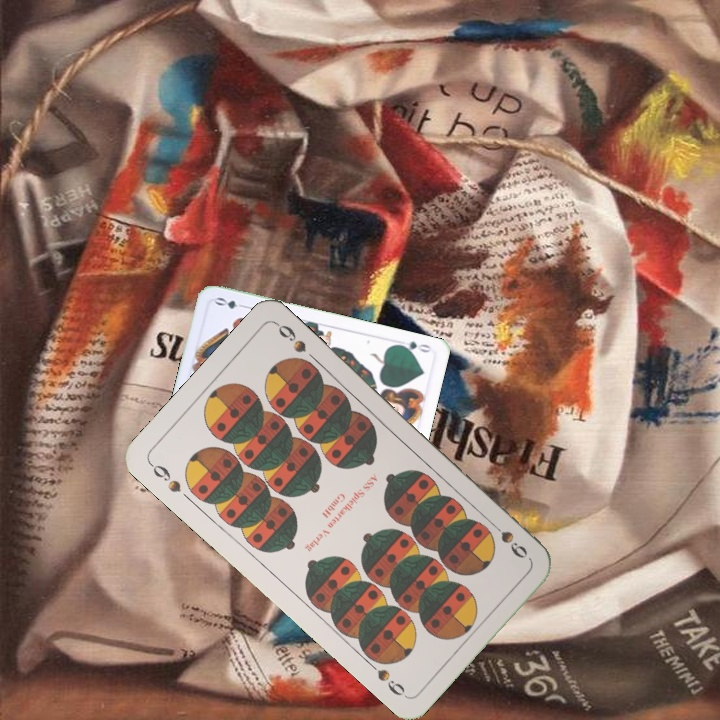GO: (393, 337, 433, 355)
S9: (485, 516, 531, 562), (145, 458, 184, 496)
